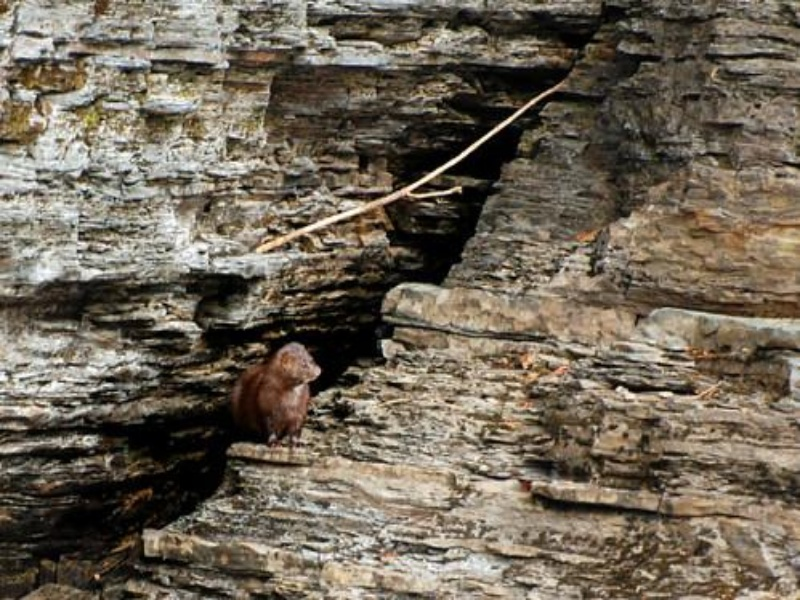minkish: (225, 340, 324, 447)
